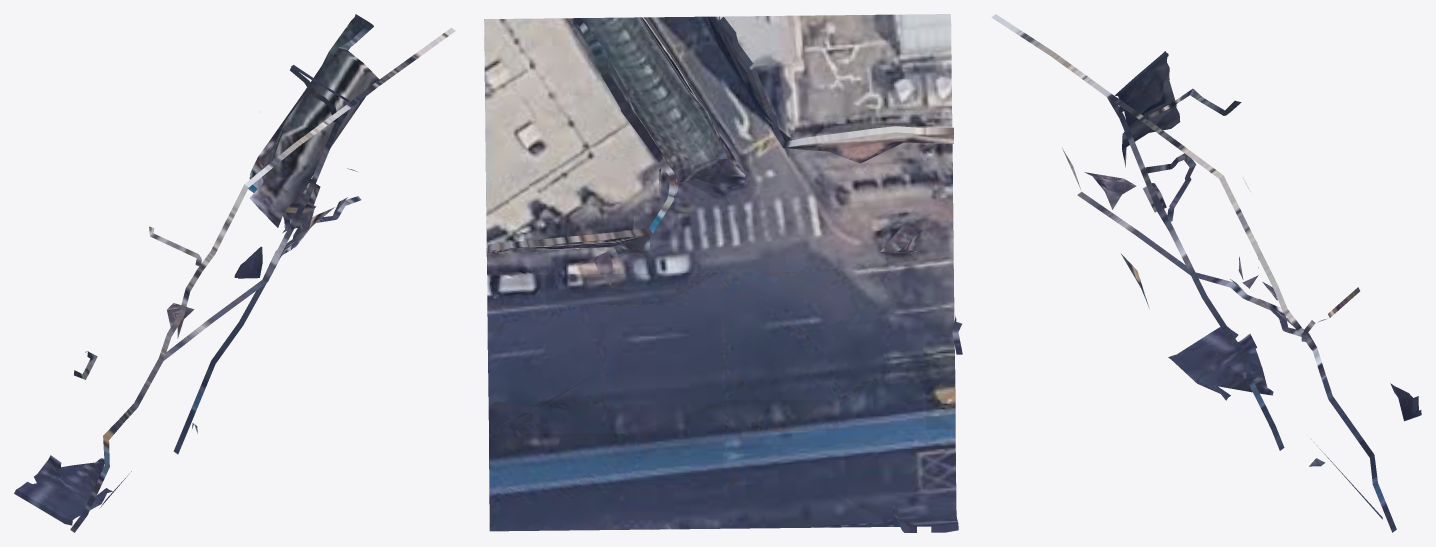
3 views of the same model, side by side, from view 1: azimuth 30°, elevation 25°; view 2: azimuth 150°, elevation 25°; view 3: azimuth 270°, elevation 25° (orthographic). The views are drawn at different scales.
Bounding box in the file's own units: 41.03 × 37.36 × 33.78.
1 material, 1 textured.
